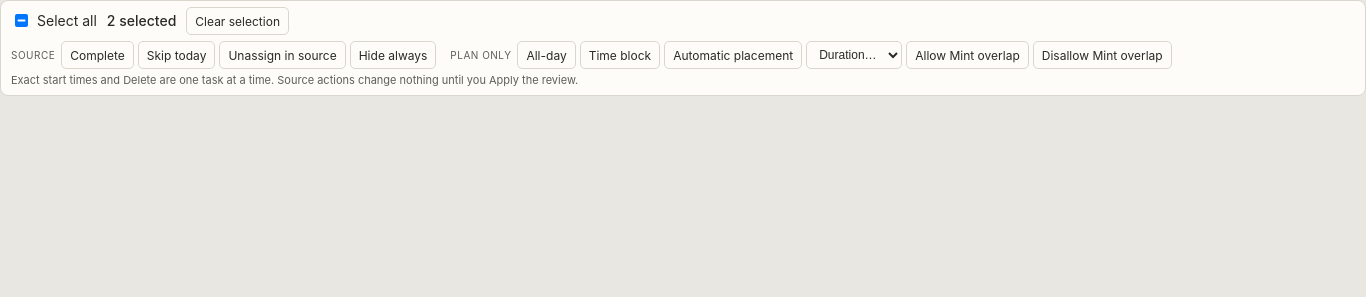
results, retry, and undo › refused and failed results › all failed keeps failure styling and Retry failed
Click the button "Complete".
click(98, 55)  # box [61, 41, 134, 69]
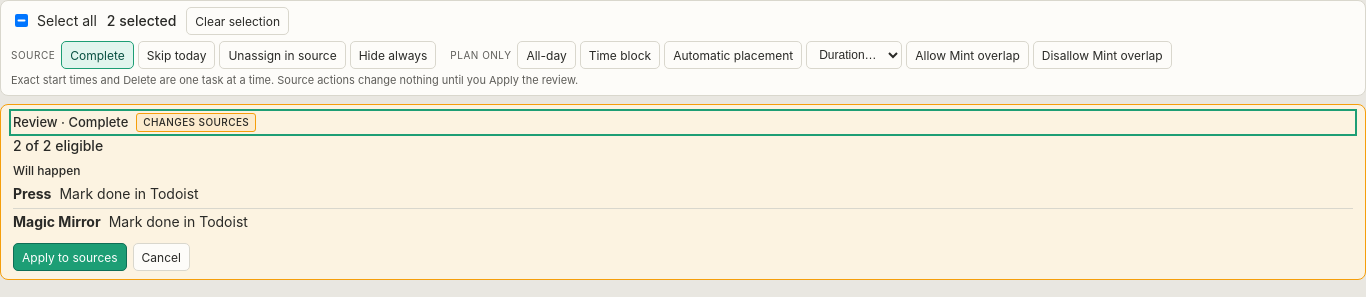
Click the button "Apply to sources".
click(70, 257)  # box [13, 243, 127, 271]
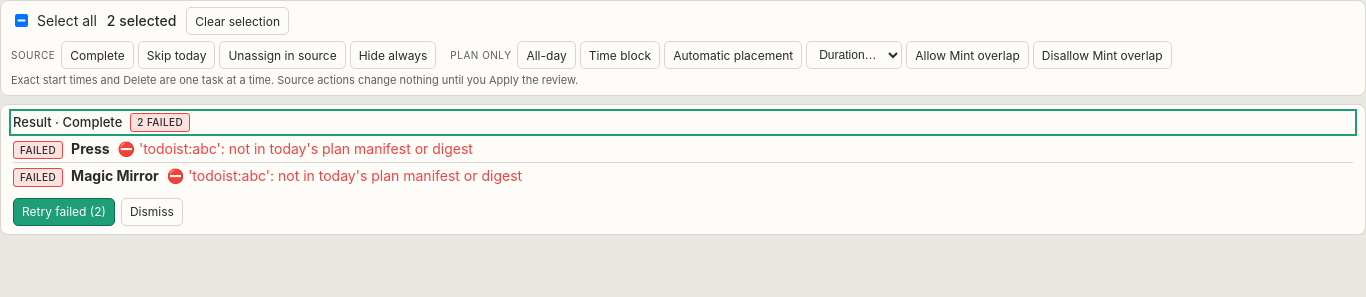
Now the text with class "batch-chip" reads "2 failed", box [137, 116, 183, 128]
